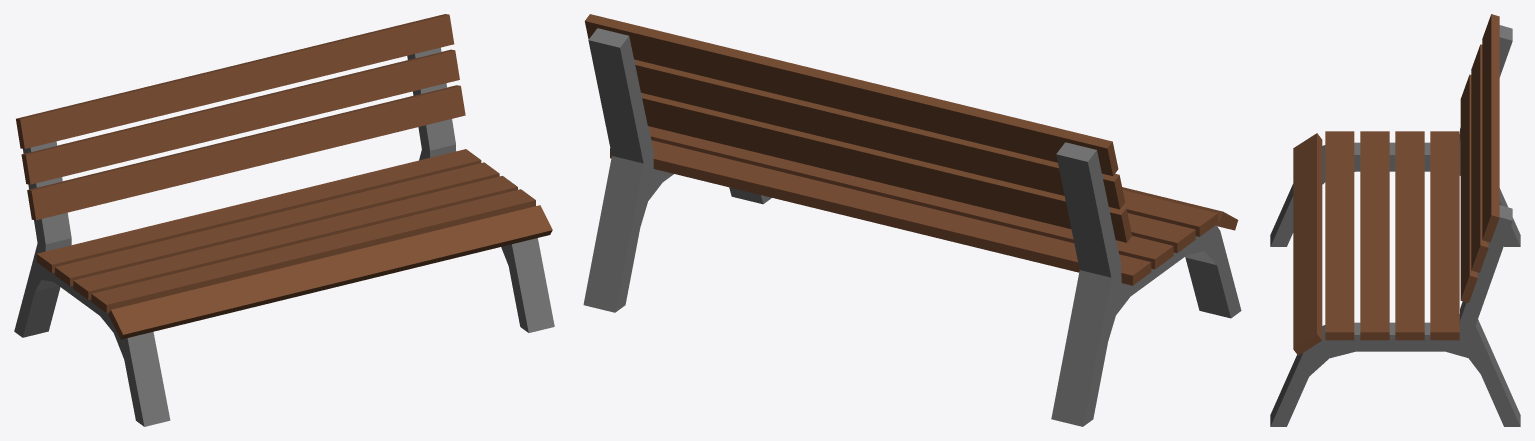
File: Bench.obj
3 views of the same model, side by side, from view 1: azimuth 30°, elevation 25°; view 2: azimuth 150°, elevation 25°; view 3: azimuth 270°, elevation 25° (orthographic). The views are drawn at different scales.
Parts seen in each view (by area): view 1: LAWKA; view 2: LAWKA; view 3: LAWKA.
Part boxes in pixels (x1=…): LAWKA: x1=14, y1=14, x2=554, y2=426; LAWKA: x1=583, y1=14, x2=1241, y2=426; LAWKA: x1=1270, y1=14, x2=1520, y2=426.
Bounding box in the file's own units: 3.34 × 1.67 × 1.75.
